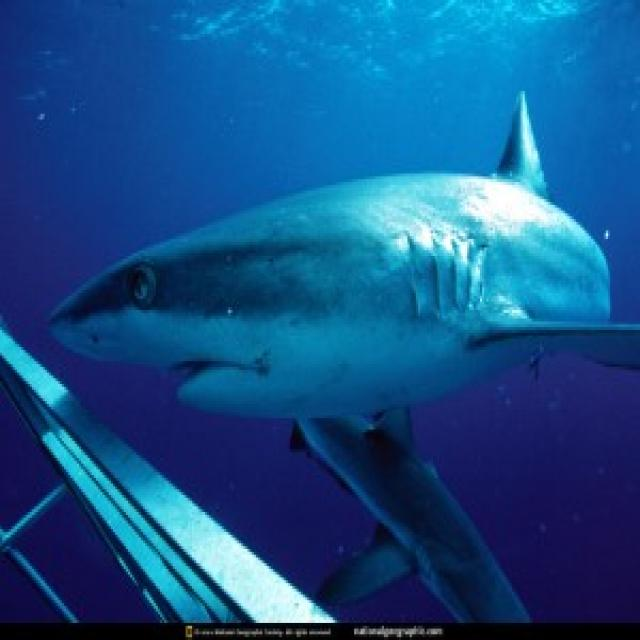Shark: (55, 94, 639, 405), (292, 424, 539, 618)
